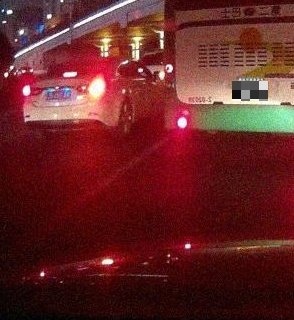L_light: (23, 85, 31, 96)
R_light: (90, 81, 105, 93)
T_light: (62, 72, 77, 77)
night-right: (23, 60, 113, 141)
plate_1: (232, 81, 268, 101)
